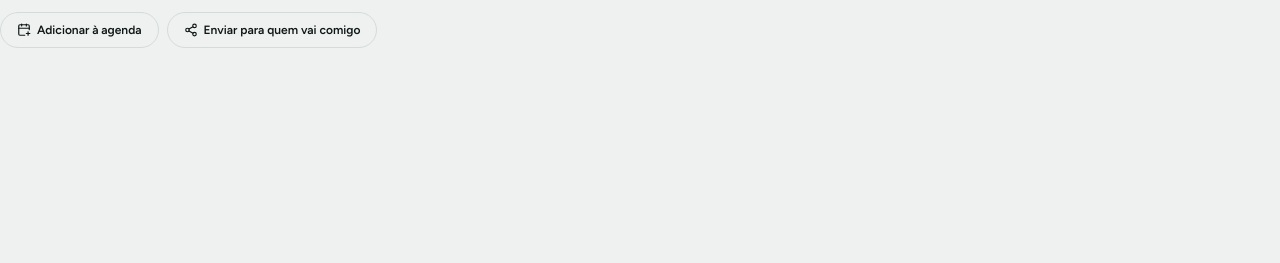
Test: BookingTripActions › cria o link na hora do clique e oferece WhatsApp com a mensagem
Click the button "Enviar para quem vai comigo": (272, 30) [166,12,377,48]
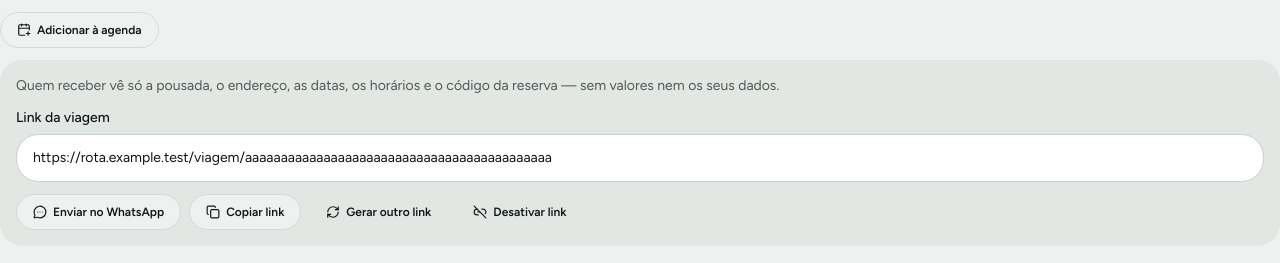
Expected: the text "sem valores nem os seus dados" is shown, [16,77,779,94]
